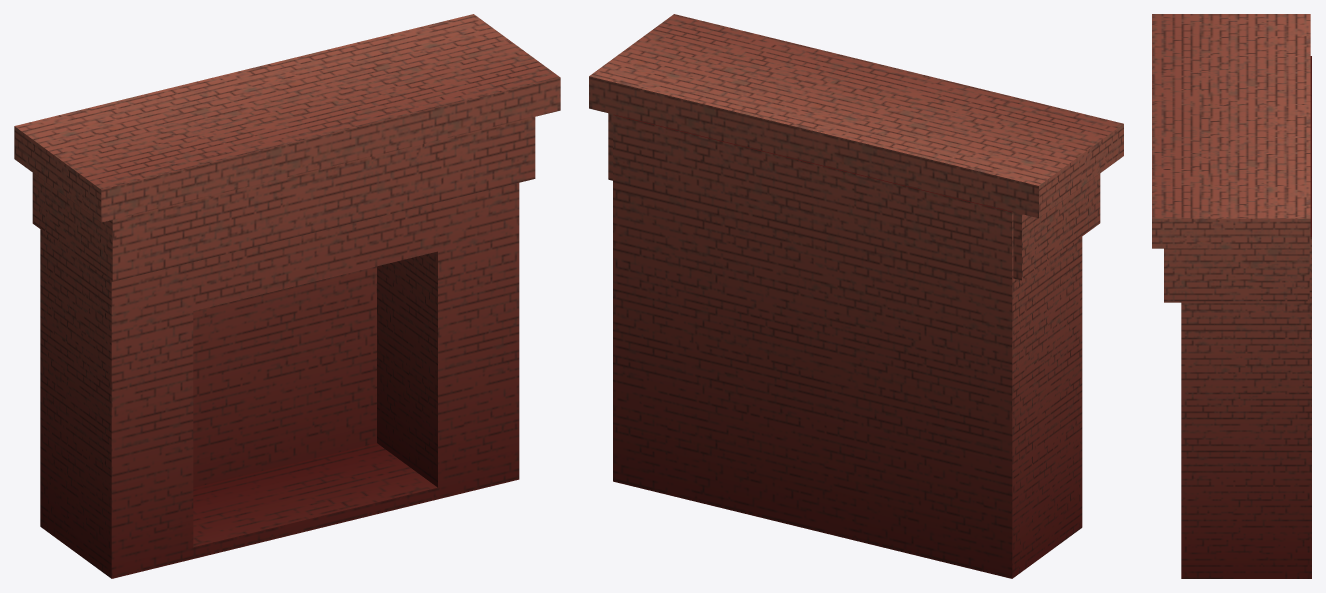
Rendered from Fireplace.fbx.
3 renders of one model, left to right at view 1: azimuth 30°, elevation 25°; view 2: azimuth 150°, elevation 25°; view 3: azimuth 270°, elevation 25°, orthographic. The views are drawn at different scales.
Visible parts, largest first — view 1: Fireplace; view 2: Fireplace; view 3: Fireplace.
Part boxes in pixels (bbox=[...]): Fireplace: bbox=[14, 14, 560, 578]; Fireplace: bbox=[589, 14, 1123, 578]; Fireplace: bbox=[1152, 14, 1311, 578].
Bounding box in the file's own units: 8371 × 7094 × 2763.
